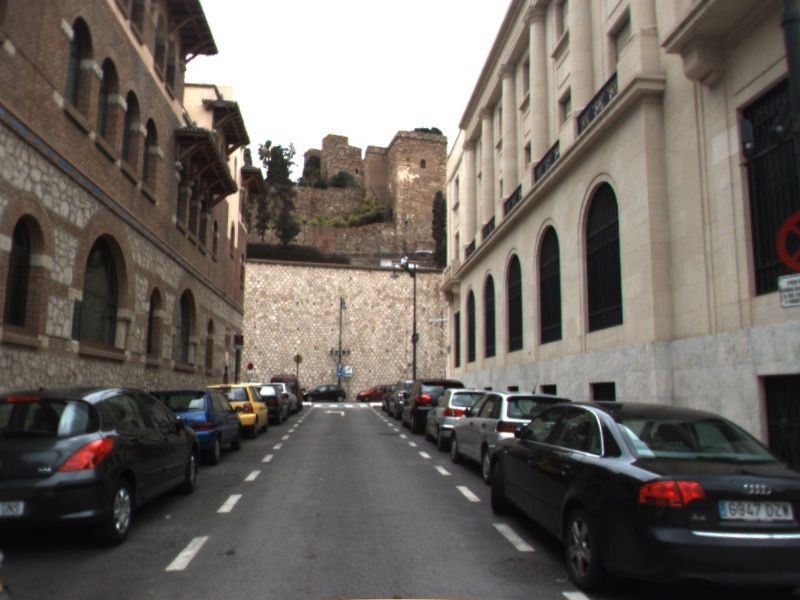LEFT: (323, 407, 347, 418)
